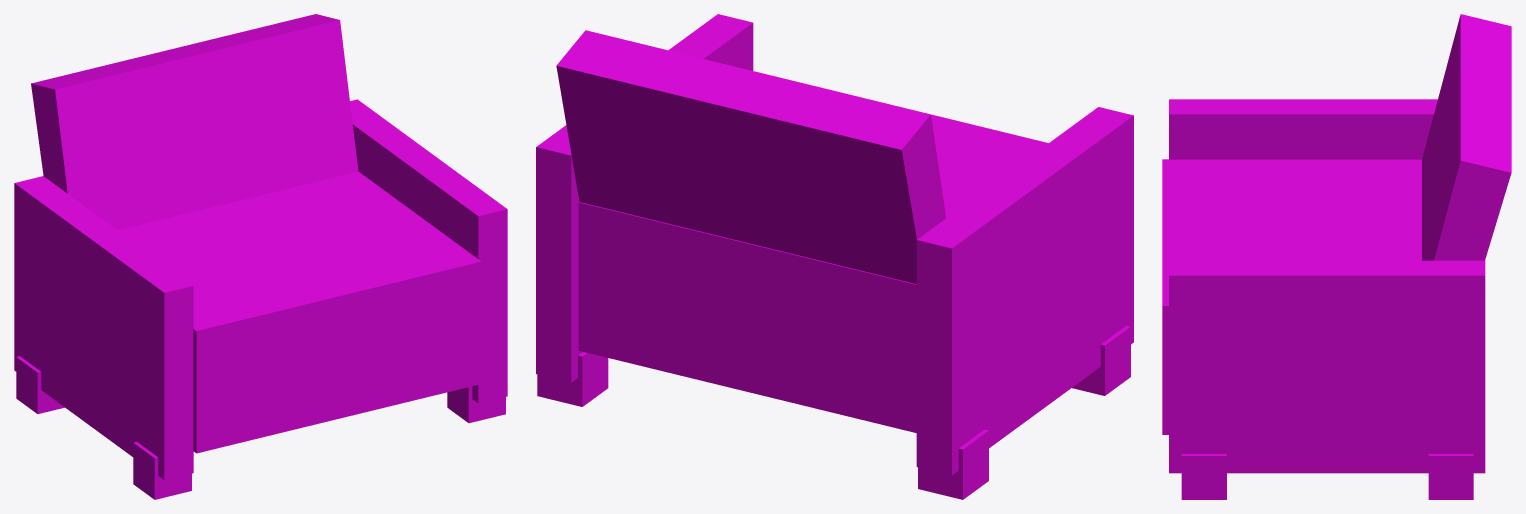
Rendered from SM_SingleChairCollider.fbx.
3 views of the same model, side by side, from view 1: azimuth 30°, elevation 25°; view 2: azimuth 150°, elevation 25°; view 3: azimuth 270°, elevation 25° (orthographic). The views are drawn at different scales.
Parts seen in each view (by area): view 1: SingleChairCollision; view 2: SingleChairCollision; view 3: SingleChairCollision.
Part boxes in pixels (x1,y1,x2,y2): SingleChairCollision: (14, 14, 507, 499); SingleChairCollision: (536, 14, 1133, 499); SingleChairCollision: (1162, 14, 1511, 499).
Bounding box in the file's own units: 127 × 106 × 104.
